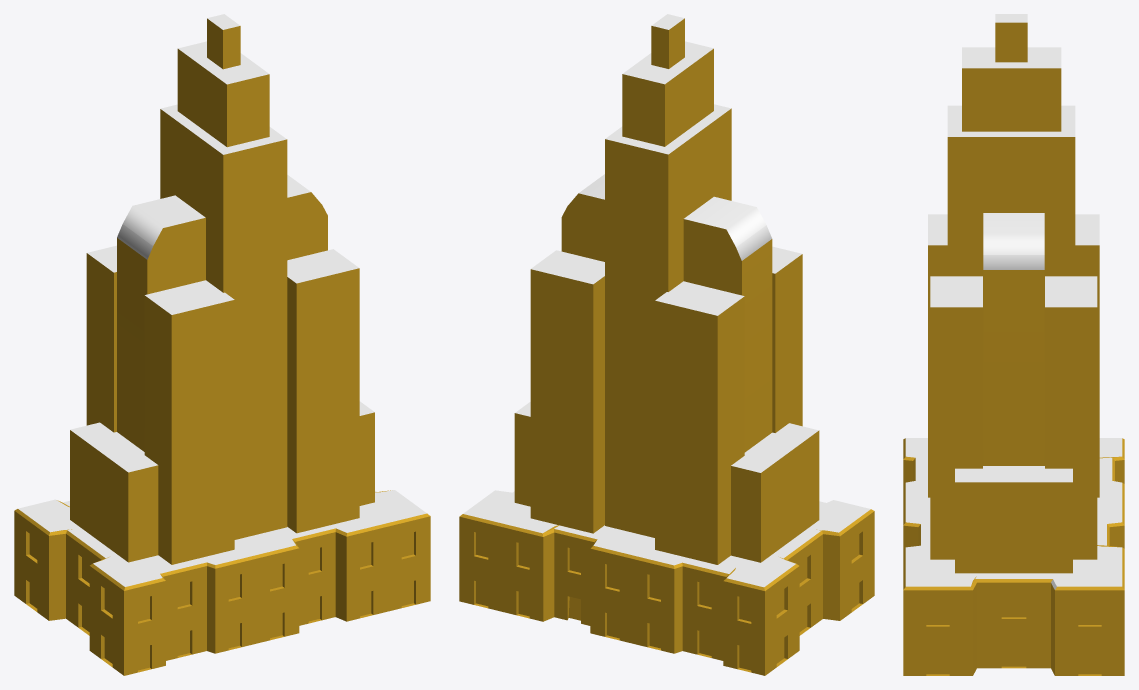
The model's file is Building_22_Yellow.glb.
The picture shows the model from 3 angles, left to right: view 1: azimuth 30°, elevation 25°; view 2: azimuth 150°, elevation 25°; view 3: azimuth 270°, elevation 25°; orthographic projection.
Visible parts, largest first — view 1: pCube7; view 2: pCube7; view 3: pCube7.
Boxes of the visible parts, x1,y1,x2,y2 form: pCube7: (14,14,430,675); pCube7: (459,14,874,675); pCube7: (903,14,1124,675).
Bounding box in the file's own units: 2507 × 4511 × 1556.
